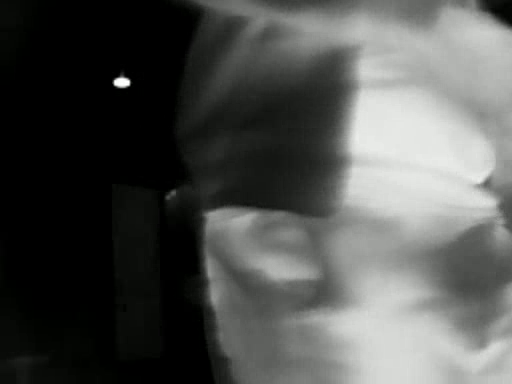chest: (205, 0, 487, 207)
